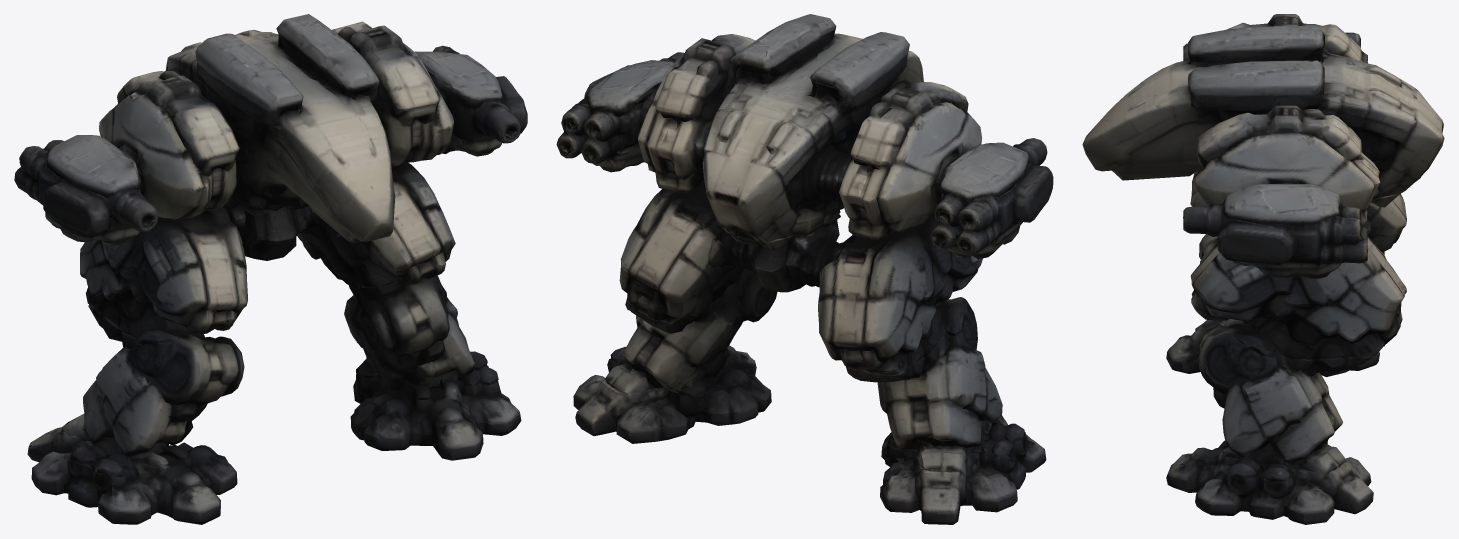
Rendered from hero_h4.glb.
3 views of the same model, side by side, from view 1: azimuth 30°, elevation 25°; view 2: azimuth 150°, elevation 25°; view 3: azimuth 270°, elevation 25° (orthographic). The views are drawn at different scales.
Visible parts, largest first — view 1: hull, thigh_l, shin_l, shin_r, foot_l, weapon_l, foot_r, thigh_r, weapon_r, pelvis; view 2: hull, thigh_l, shin_l, thigh_r, weapon_l, shin_r, foot_r, foot_l, weapon_r, pelvis; view 3: hull, thigh_r, shin_r, weapon_r, foot_r, thigh_l, foot_l, shin_l.
Boxes of the visible parts, <box> form: hull: <box>99,14,467,243</box>; thigh_l: <box>80,207,247,344</box>; shin_l: <box>61,304,244,475</box>; shin_r: <box>321,256,498,399</box>; foot_l: <box>27,417,237,524</box>; weapon_l: <box>14,135,158,245</box>; foot_r: <box>350,365,521,460</box>; thigh_r: <box>297,162,455,287</box>; weapon_r: <box>415,45,527,156</box>; pelvis: <box>222,194,339,260</box>; hull: <box>616,14,981,242</box>; thigh_l: <box>818,212,982,374</box>; shin_l: <box>846,297,1024,472</box>; thigh_r: <box>619,179,743,322</box>; weapon_l: <box>931,138,1053,258</box>; shin_r: <box>605,268,777,396</box>; foot_r: <box>573,345,771,443</box>; foot_l: <box>880,415,1046,524</box>; weapon_r: <box>556,52,684,172</box>; pelvis: <box>707,204,844,292</box>; hull: <box>1082,14,1444,226</box>; thigh_r: <box>1190,237,1406,359</box>; shin_r: <box>1198,324,1378,482</box>; weapon_r: <box>1183,184,1367,278</box>; foot_r: <box>1166,440,1373,524</box>; thigh_l: <box>1190,171,1406,252</box>; foot_l: <box>1166,320,1384,376</box>; shin_l: <box>1199,234,1384,329</box>.
Bounding box in the file's own units: 5.13 × 4.36 × 3.78.
1 material, 1 textured.
